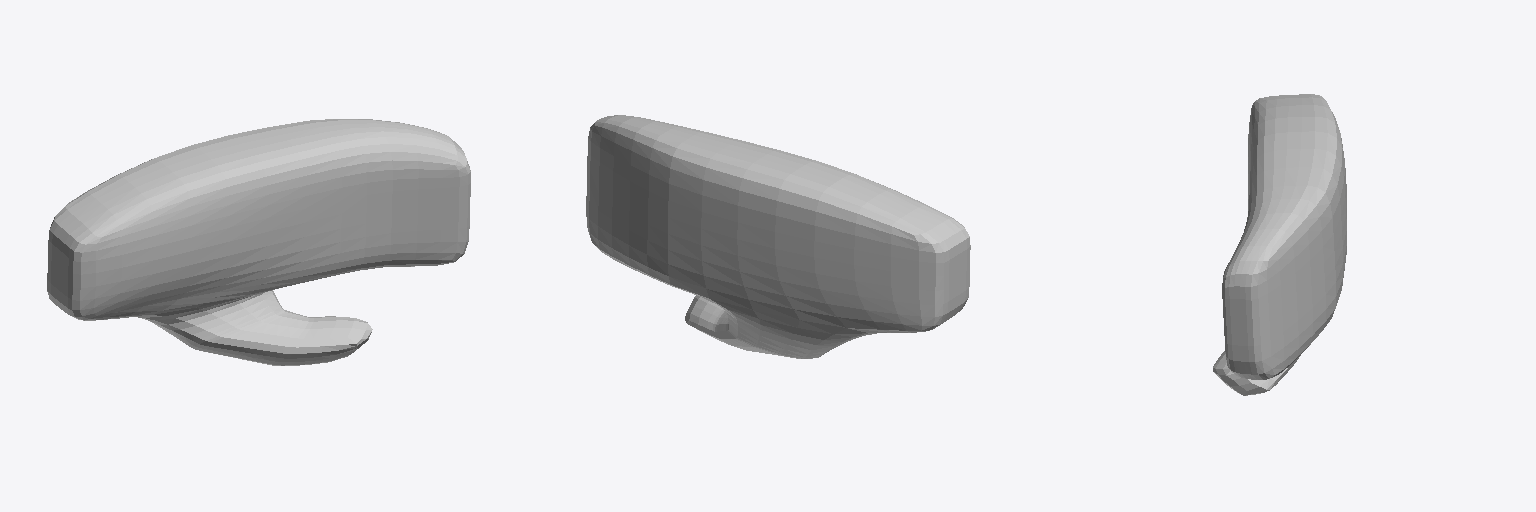
Rendered from RightHand.obj.
The picture shows the model from 3 angles: view 1: azimuth 30°, elevation 25°; view 2: azimuth 150°, elevation 25°; view 3: azimuth 270°, elevation 25°; orthographic projection.
Visible parts, largest first — view 1: hand_right.001; view 2: hand_right.001; view 3: hand_right.001.
Boxes of the visible parts, box(x1,y1,x2,y2) form: hand_right.001: box(47, 119, 470, 365); hand_right.001: box(586, 115, 970, 358); hand_right.001: box(1213, 94, 1346, 395).
Size of the model in its own units: 0.1348 by 0.0707 by 0.0408.